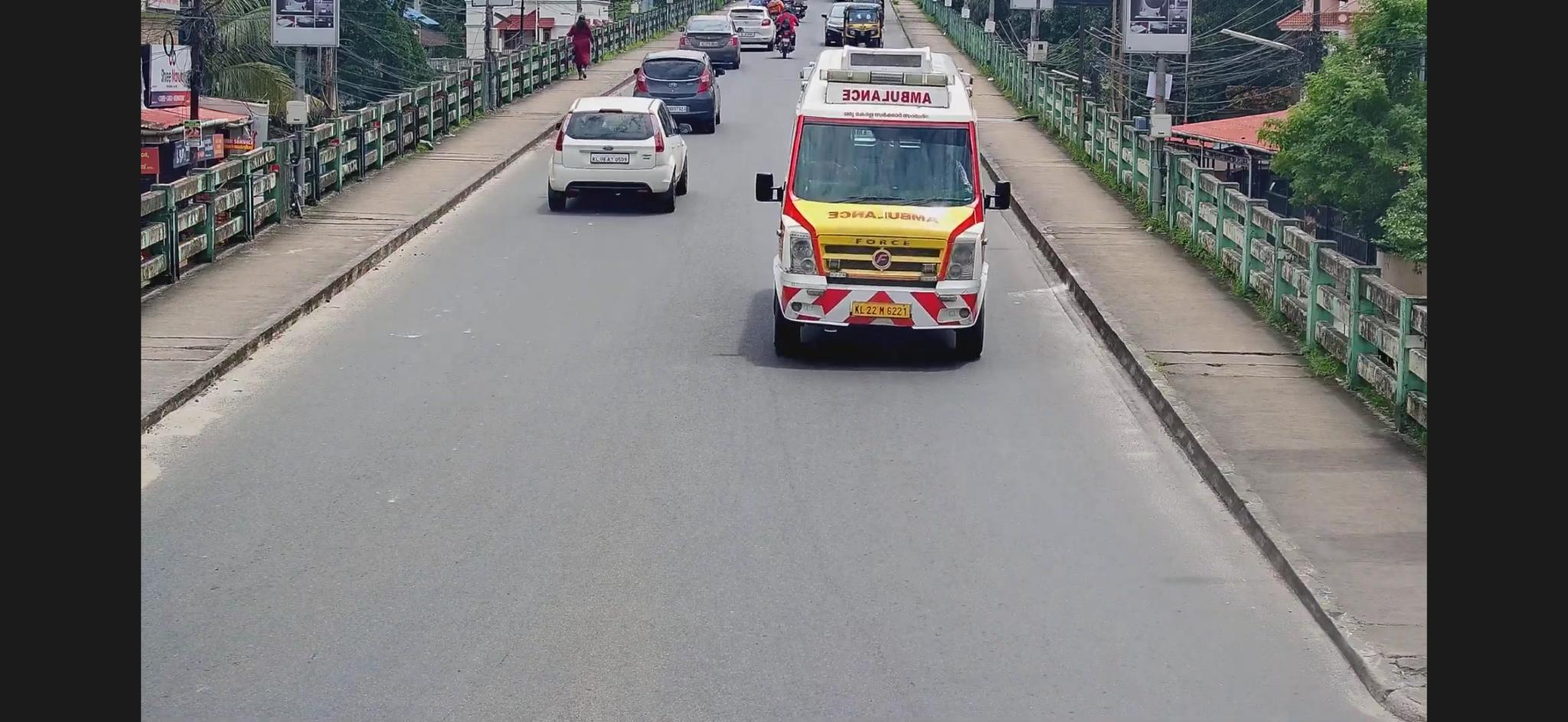ambulance: (766, 45, 996, 362)
